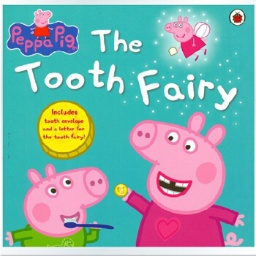Peppa: (114, 112, 245, 248)
